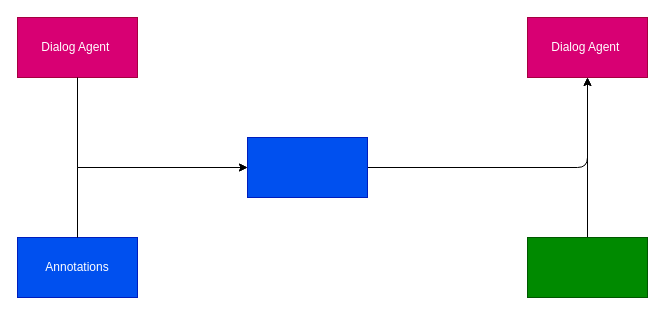
Some shapes in this 665 by 315 pixel diagram are drawn without their labels. The shapes that lost their labels are listed below. From the top down, each one's box as (x1, y1, x2, y2) in pixels, then its label:
(246, 136, 368, 198): Skill
(526, 236, 648, 298): Post Annotations
